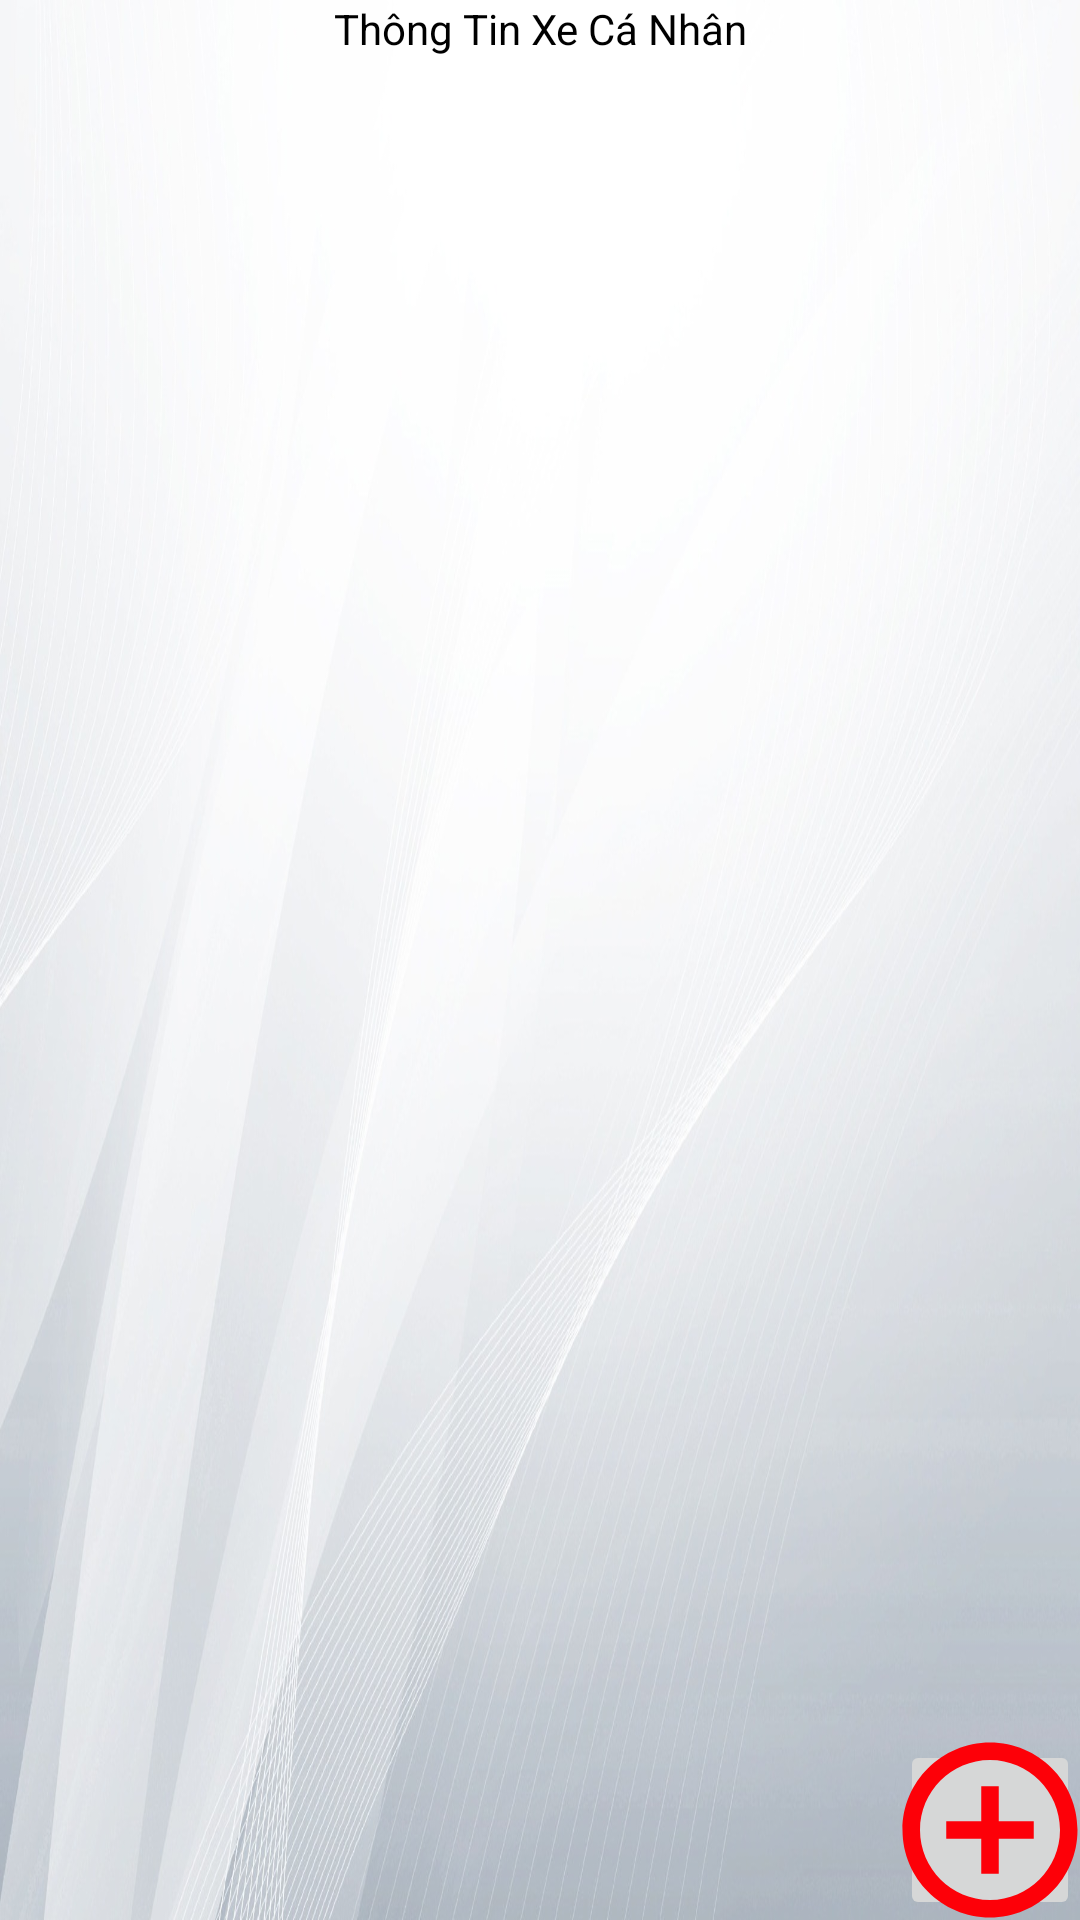

Icons on this 1080×1920 Android screen, each with the point to tap as point (x, y):
add: point (990, 1830)
